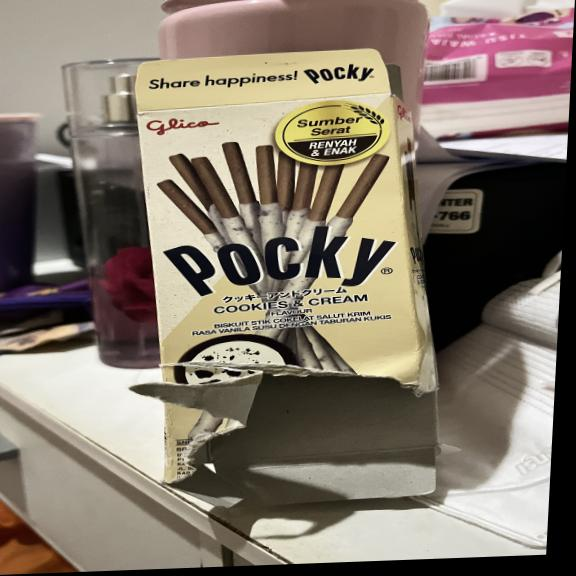Kertas: (139, 96, 440, 480)
